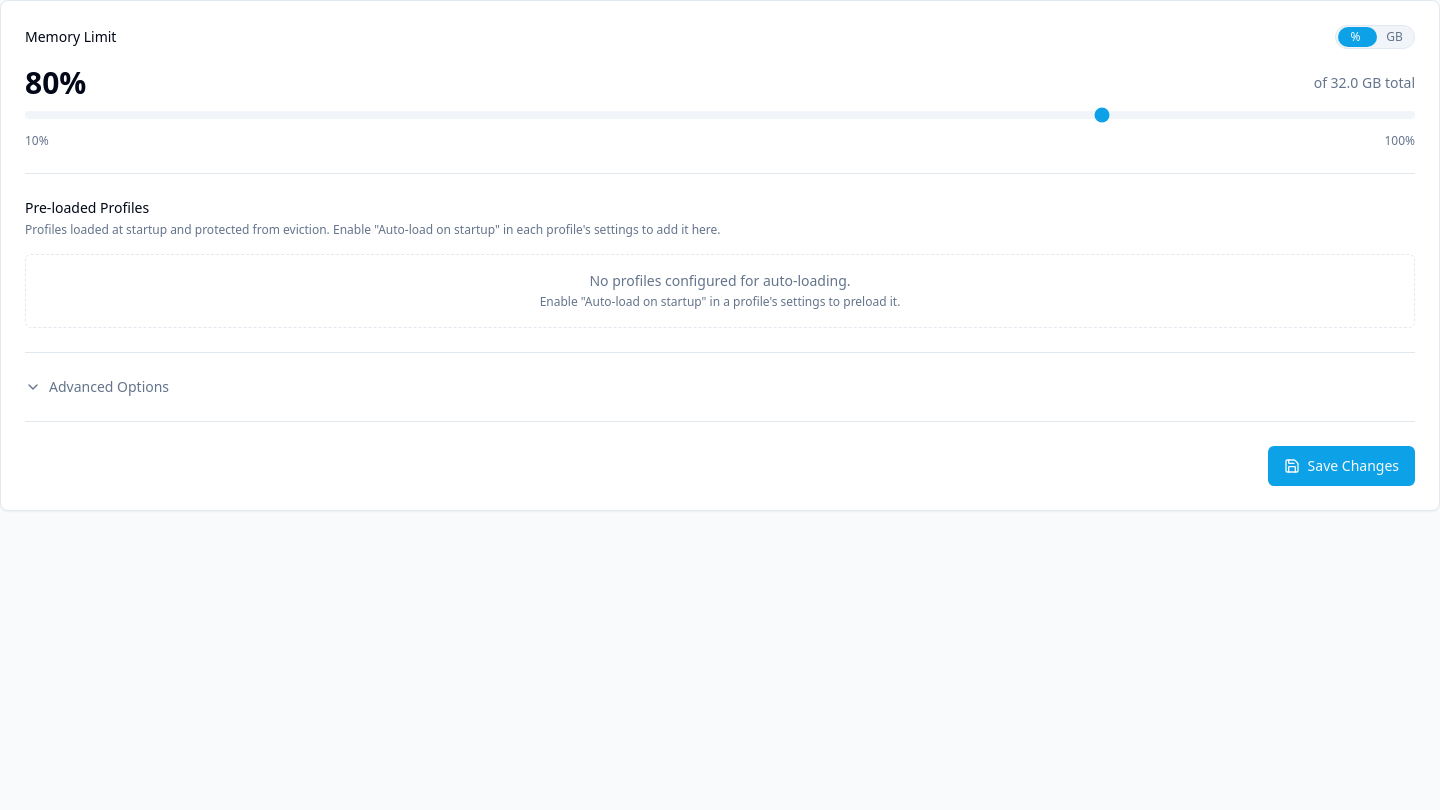
Scenario: ModelPoolSettings › eviction policy select › renders eviction policy select when advanced is toggled
Click the button "Advanced Options".
click(97, 387)  # box left=25, top=377, right=169, bottom=397
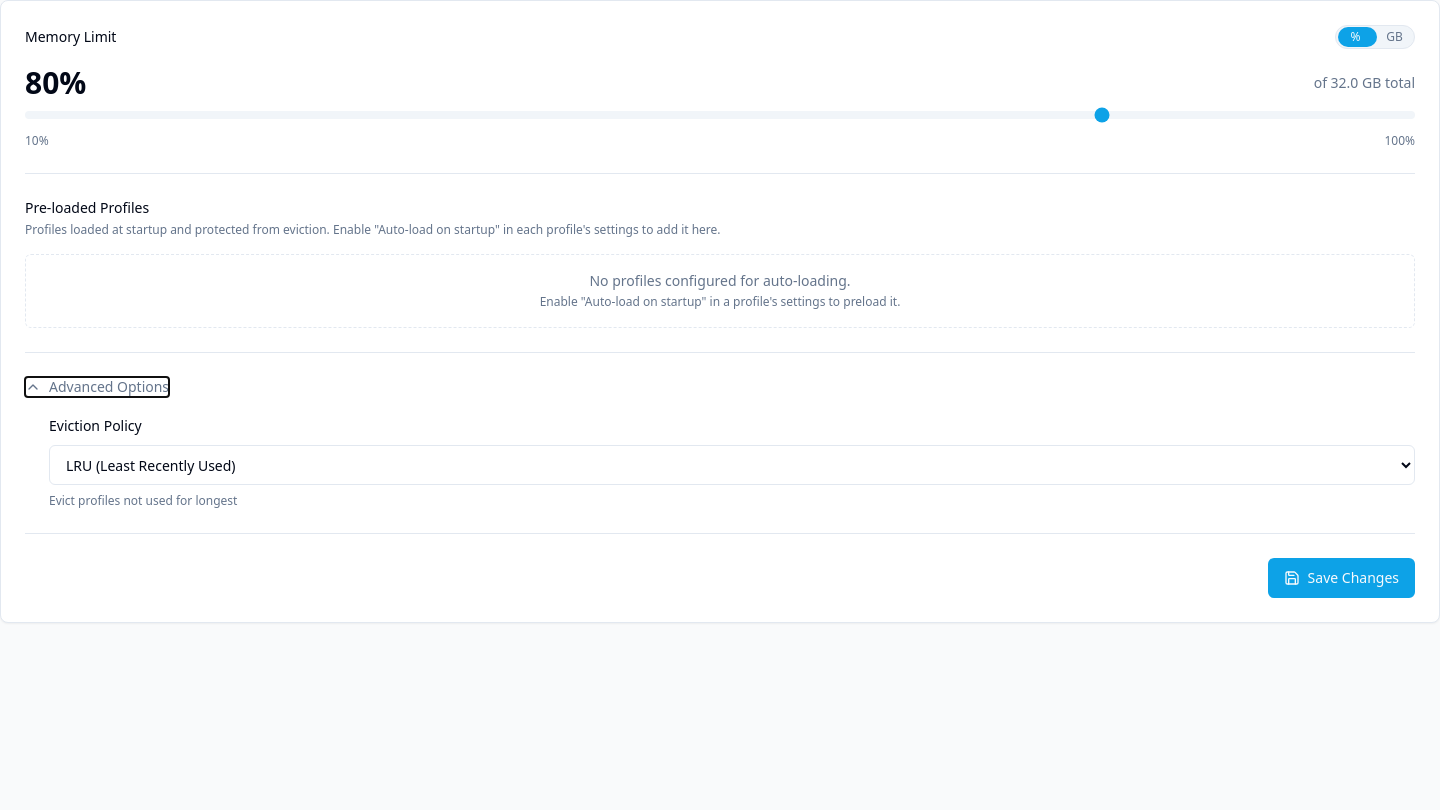
Now the dropdown labelled "Eviction Policy" is shown, box left=49, top=445, right=1415, bottom=485
